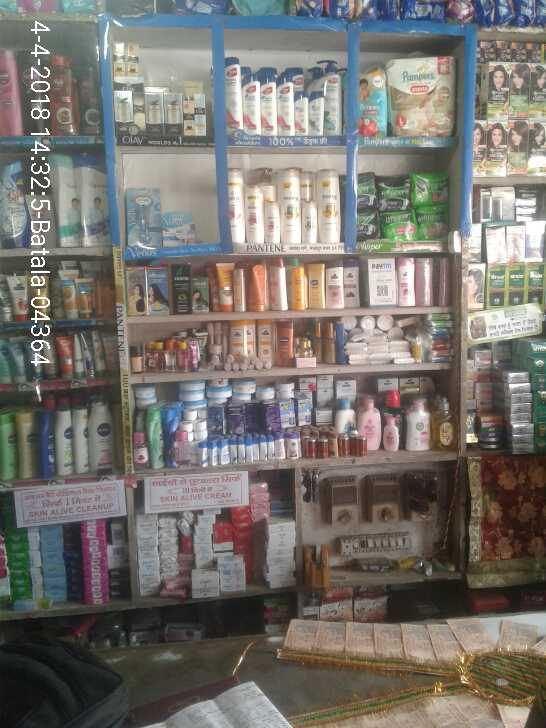venus: (129, 187, 164, 244), (164, 210, 198, 244)
